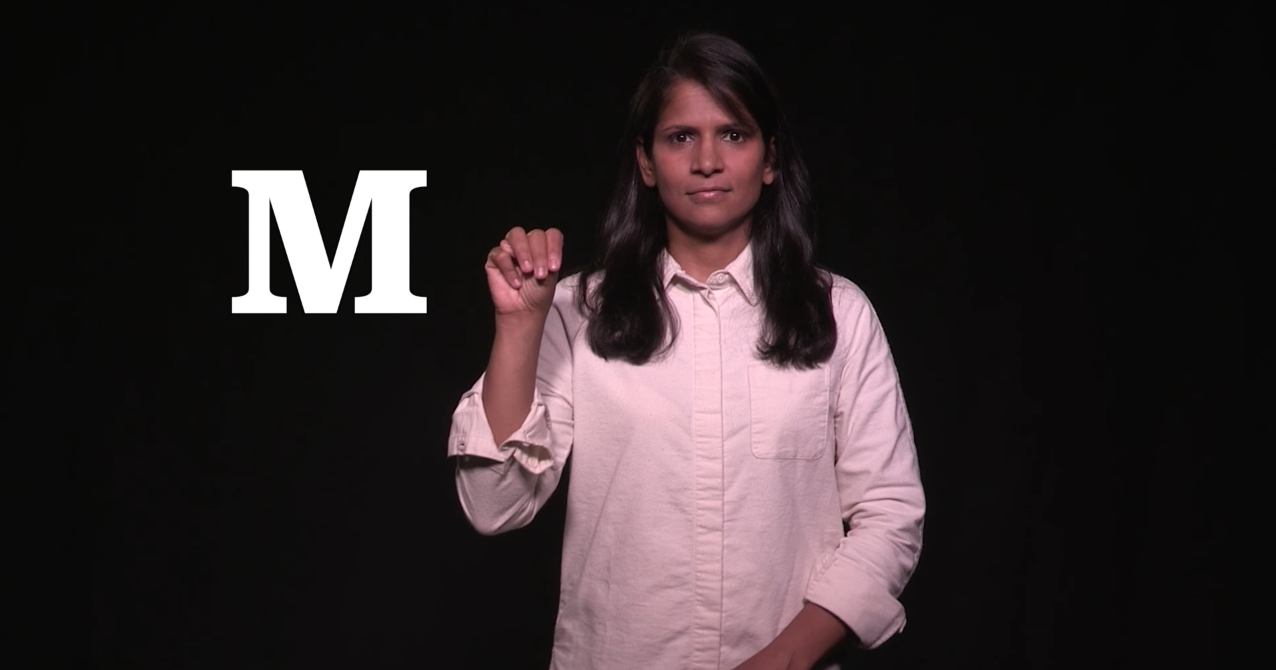m: (470, 214, 586, 333)
